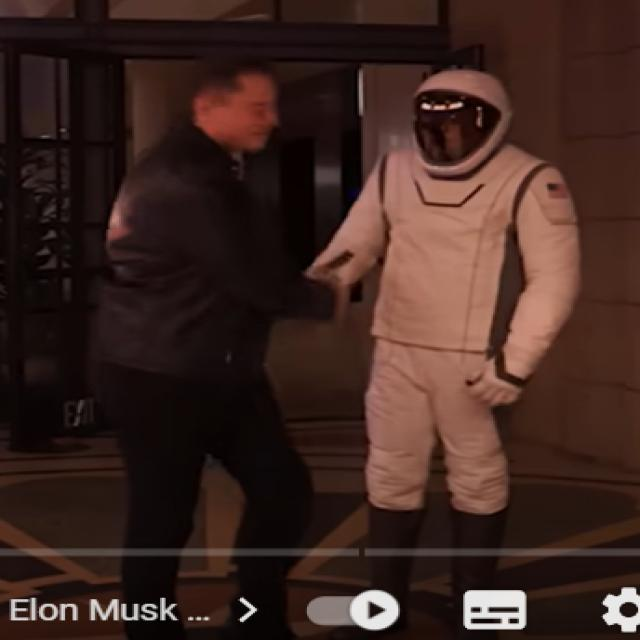stand: (309, 61, 562, 572), (123, 35, 317, 598)
